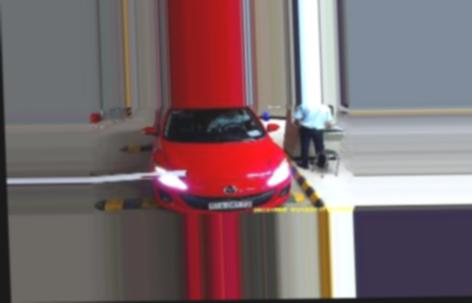License_Plate: (209, 199, 254, 210)
